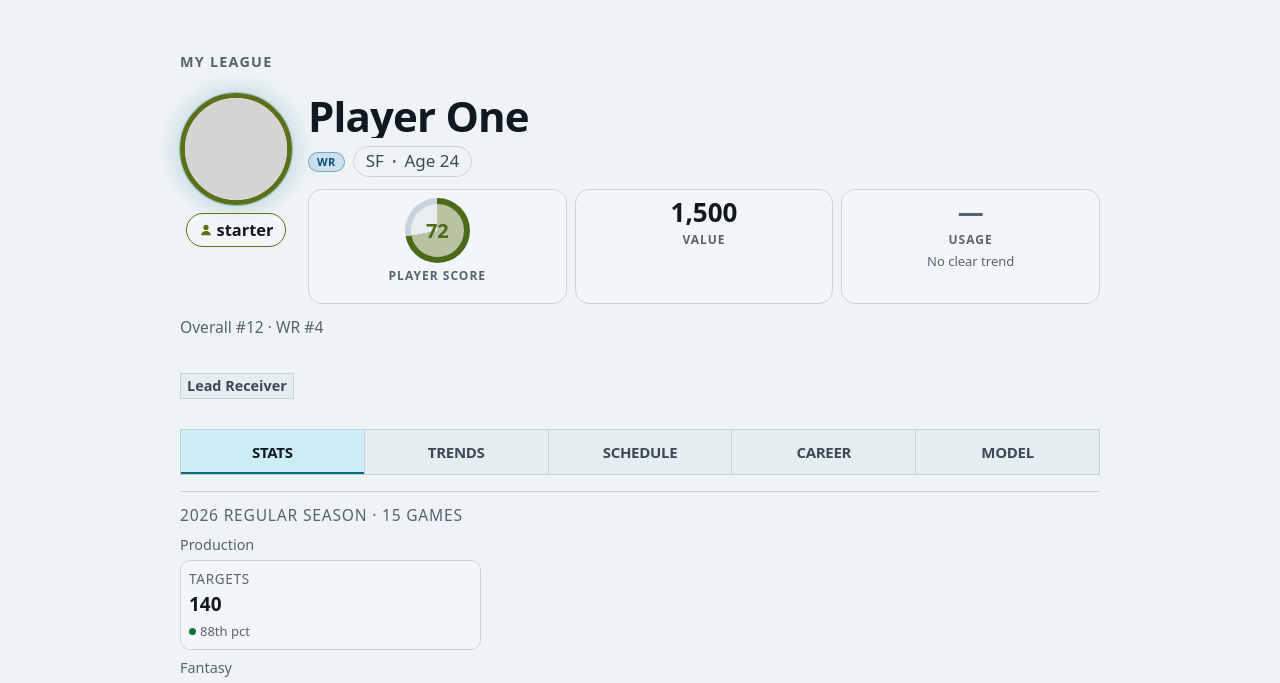
PlayerProfileContent › shows the Model tab's sub-ratings, or a graceful message with no model data
Click the tab "Model". click: (1007, 452)
box: [915,430,1099,474]
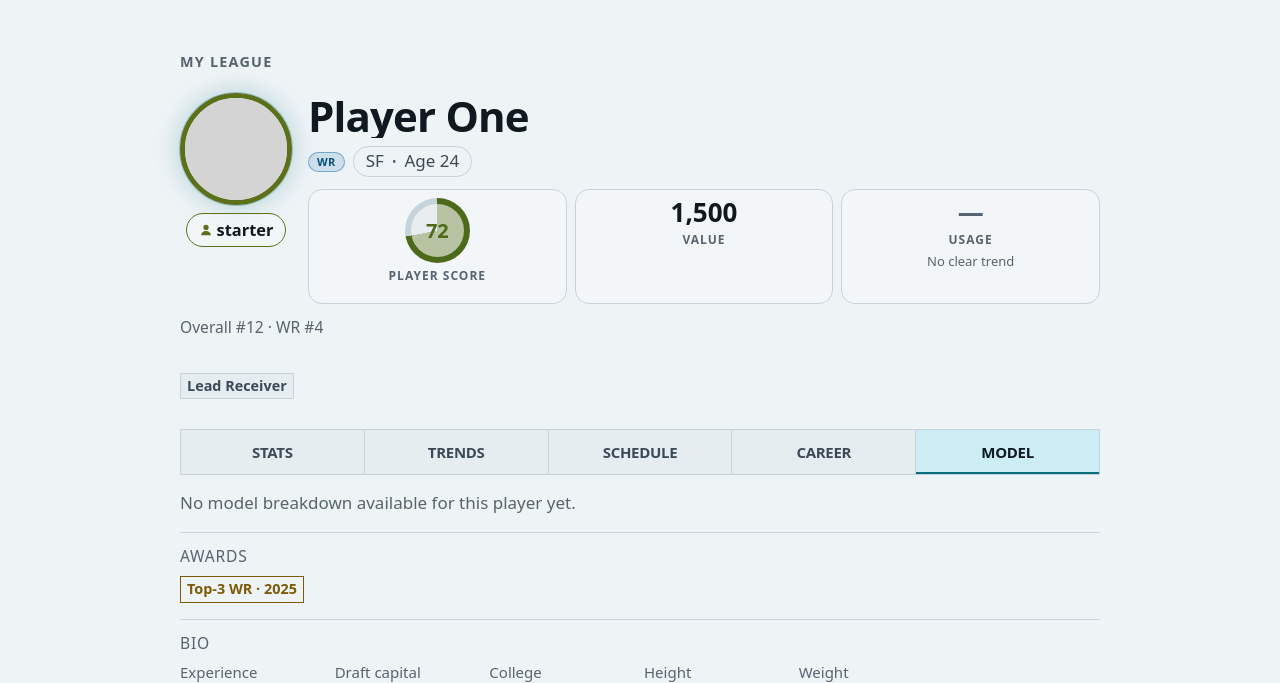
expect the text "No model breakdown available for this player yet." is shown: met, box [180,492,576,514]
